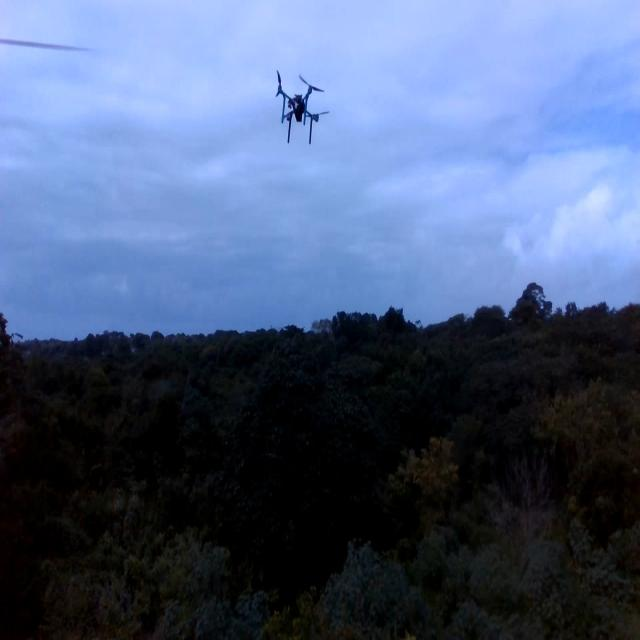-uav-: (271, 53, 329, 157)
